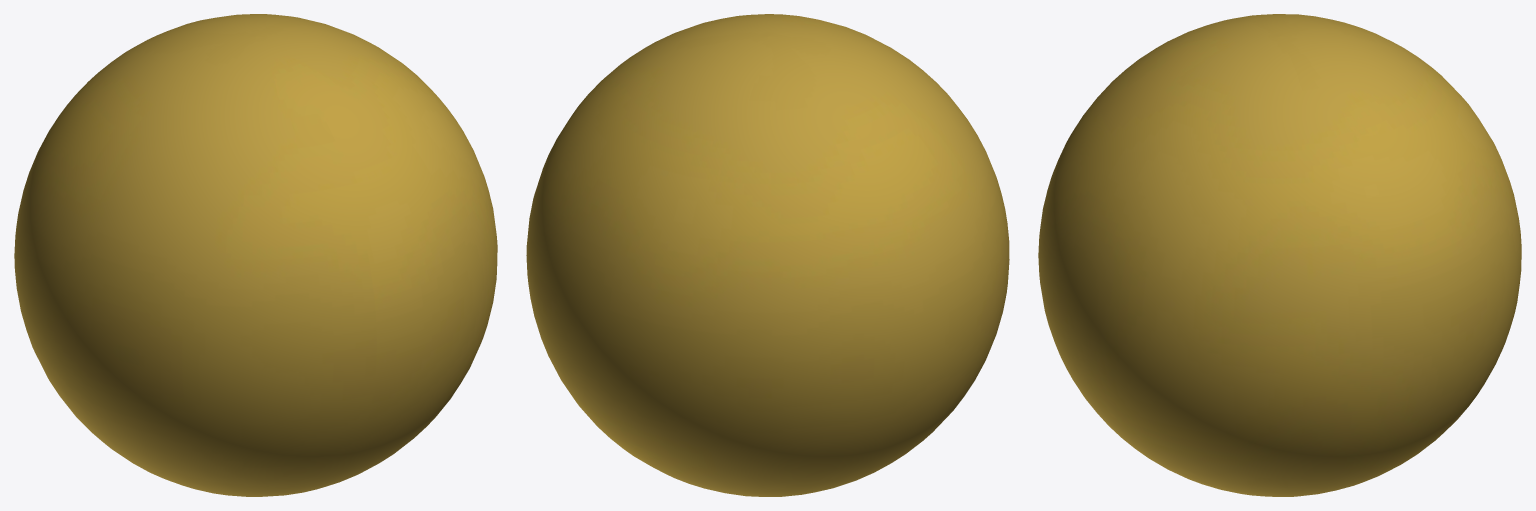
Rendered from titan.glb.
3 renders of one model, left to right at view 1: azimuth 30°, elevation 25°; view 2: azimuth 150°, elevation 25°; view 3: azimuth 270°, elevation 25°, orthographic.
Visible parts, largest first — view 1: cylindrically_mapped_sphere; view 2: cylindrically_mapped_sphere; view 3: cylindrically_mapped_sphere.
Boxes of the visible parts, x1,y1,x2,y2 form: cylindrically_mapped_sphere: (14, 14, 497, 496); cylindrically_mapped_sphere: (526, 14, 1009, 496); cylindrically_mapped_sphere: (1038, 14, 1521, 496).
Bounding box in the file's own units: 1000 × 1000 × 1000.
Materials: 1 (1 with a texture image).
